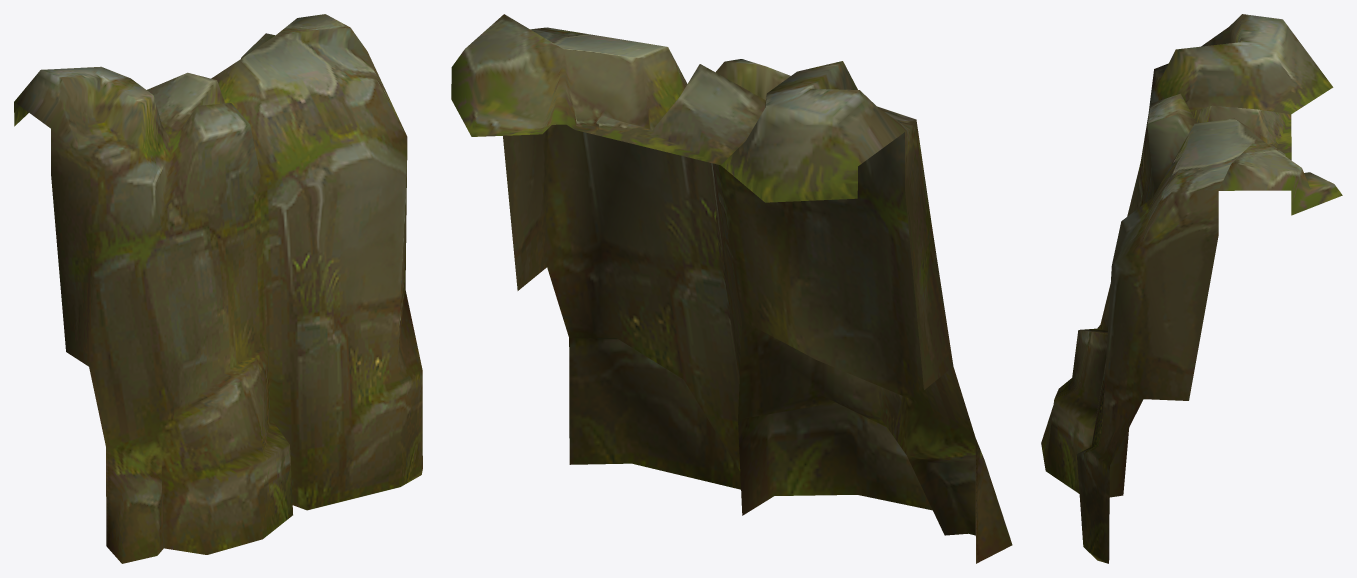
3 renders of one model, left to right at view 1: azimuth 30°, elevation 25°; view 2: azimuth 150°, elevation 25°; view 3: azimuth 270°, elevation 25°, orthographic. The views are drawn at different scales.
Visible parts, largest first — view 1: MB0002_09_02_01; view 2: MB0002_09_02_01; view 3: MB0002_09_02_01.
Boxes of the visible parts, x1,y1,x2,y2 form: MB0002_09_02_01: (14, 14, 422, 563); MB0002_09_02_01: (451, 14, 1012, 563); MB0002_09_02_01: (1041, 14, 1342, 563).
Size of the model in its own units: 40.82 by 49.83 by 33.37.
